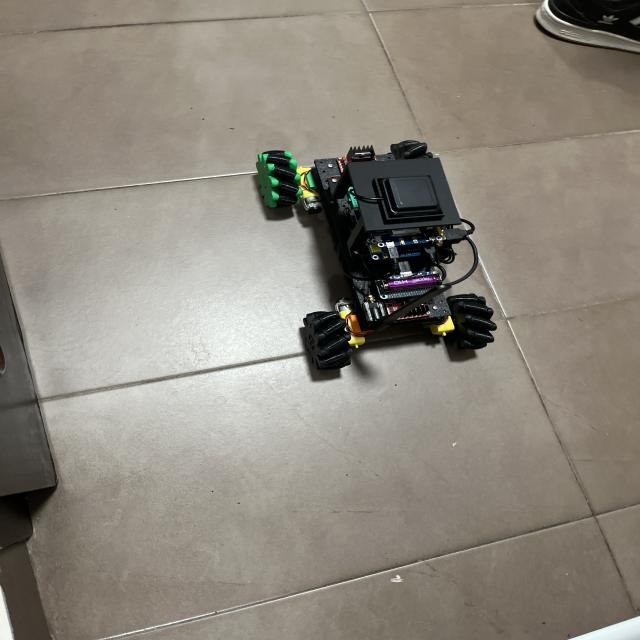robot: (256, 141, 496, 369)
